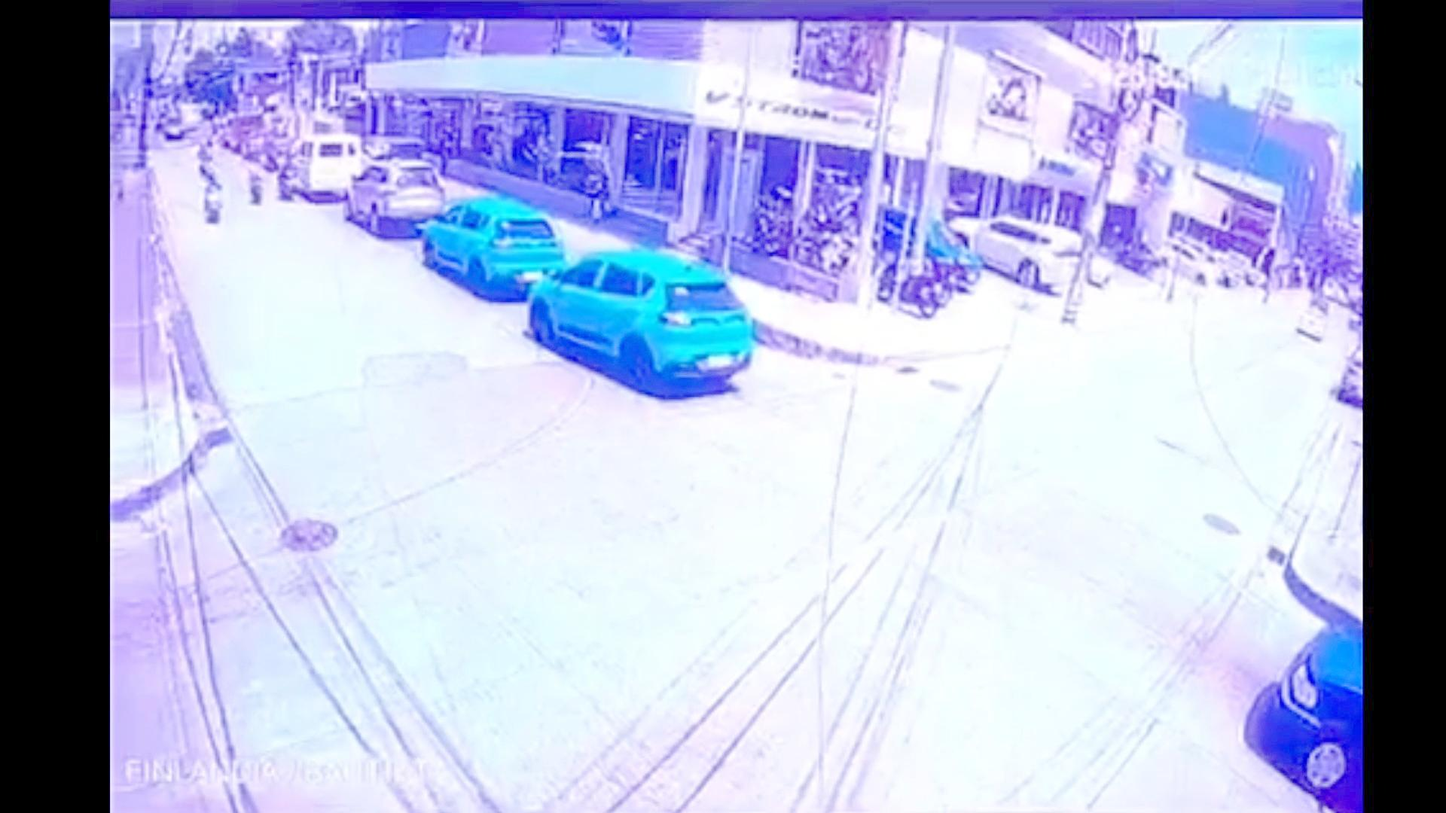Car: (531, 241, 747, 396), (1243, 613, 1364, 811), (419, 197, 571, 300), (965, 215, 1093, 291), (872, 206, 983, 292), (346, 156, 449, 233), (282, 133, 365, 201), (1164, 237, 1258, 290), (363, 135, 439, 179)
Motor: (877, 251, 940, 313), (202, 175, 224, 224), (274, 159, 298, 199), (248, 159, 265, 205)
